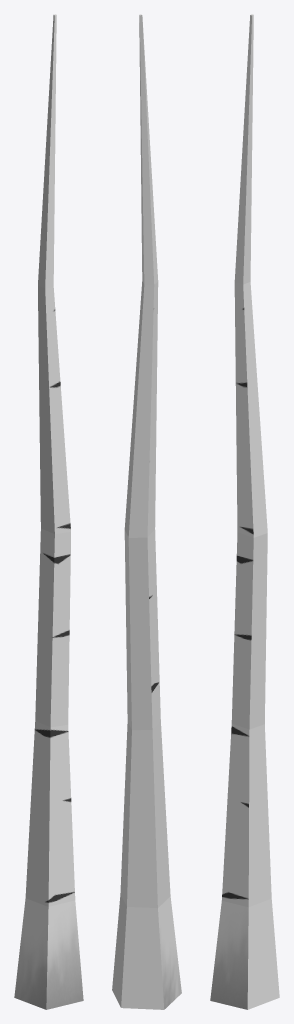
Rendered from Birch_Tree_NoLeaves_m_Snow_03_LOD.fbx.
3 renders of one model, left to right at view 1: azimuth 30°, elevation 25°; view 2: azimuth 210°, elevation 25°; view 3: azimuth 330°, elevation 25°, orthographic.
Parts seen in each view (by area): view 1: Birch_Tree_NoLeaves_m_Snow_03_LOD0; view 2: Birch_Tree_NoLeaves_m_Snow_03_LOD0; view 3: Birch_Tree_NoLeaves_m_Snow_03_LOD0.
Boxes of the visible parts, left/top/right/bottom form: Birch_Tree_NoLeaves_m_Snow_03_LOD0: left=14, top=14, right=83, bottom=1009; Birch_Tree_NoLeaves_m_Snow_03_LOD0: left=112, top=14, right=181, bottom=1009; Birch_Tree_NoLeaves_m_Snow_03_LOD0: left=210, top=14, right=279, bottom=1009.
Size of what is drawn, in the model's own units: 33.41 by 517 by 31.77.
